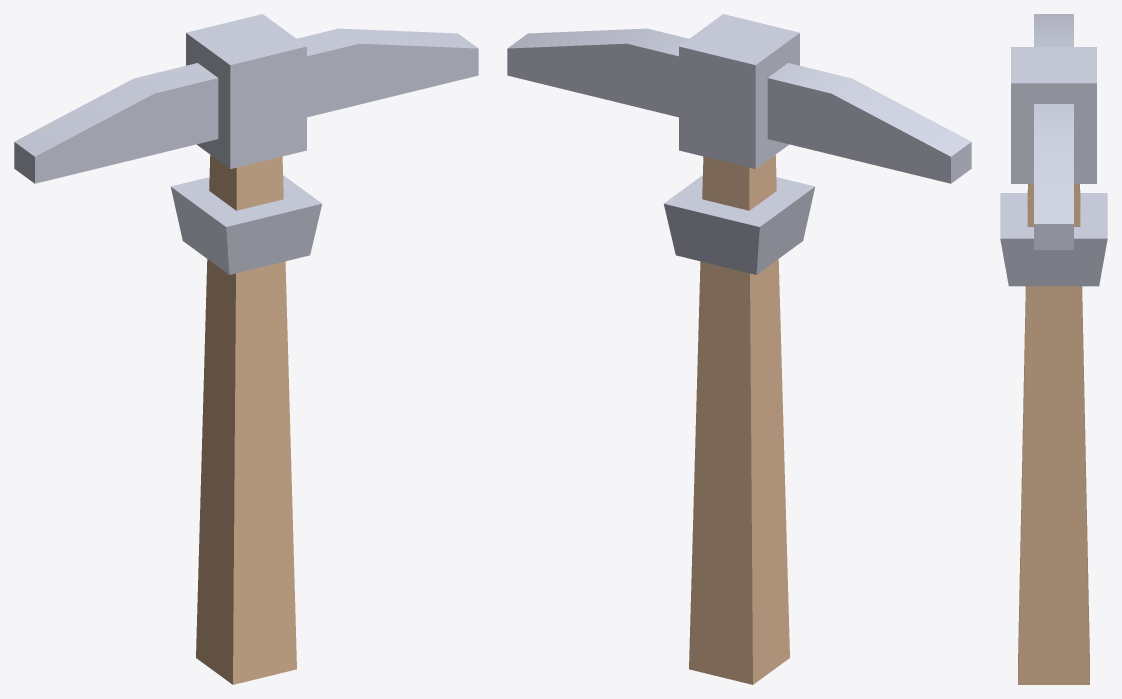
File: toolPickaxe.glb
3 views of the same model, side by side, from view 1: azimuth 30°, elevation 25°; view 2: azimuth 150°, elevation 25°; view 3: azimuth 270°, elevation 25° (orthographic). The views are drawn at different scales.
Parts seen in each view (by area): view 1: toolPickaxe; view 2: toolPickaxe; view 3: toolPickaxe.
Part boxes in pixels (left/top/right/bottom): toolPickaxe: left=14, top=14, right=478, bottom=684; toolPickaxe: left=507, top=14, right=971, bottom=684; toolPickaxe: left=1000, top=14, right=1107, bottom=684.
Bounding box in the file's own units: 0.7144 × 0.96 × 0.1548.
